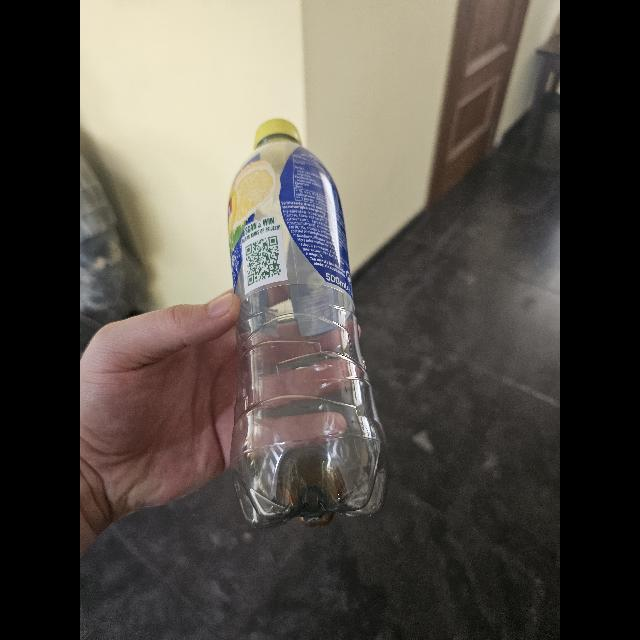Plastic: (225, 120, 392, 528)
